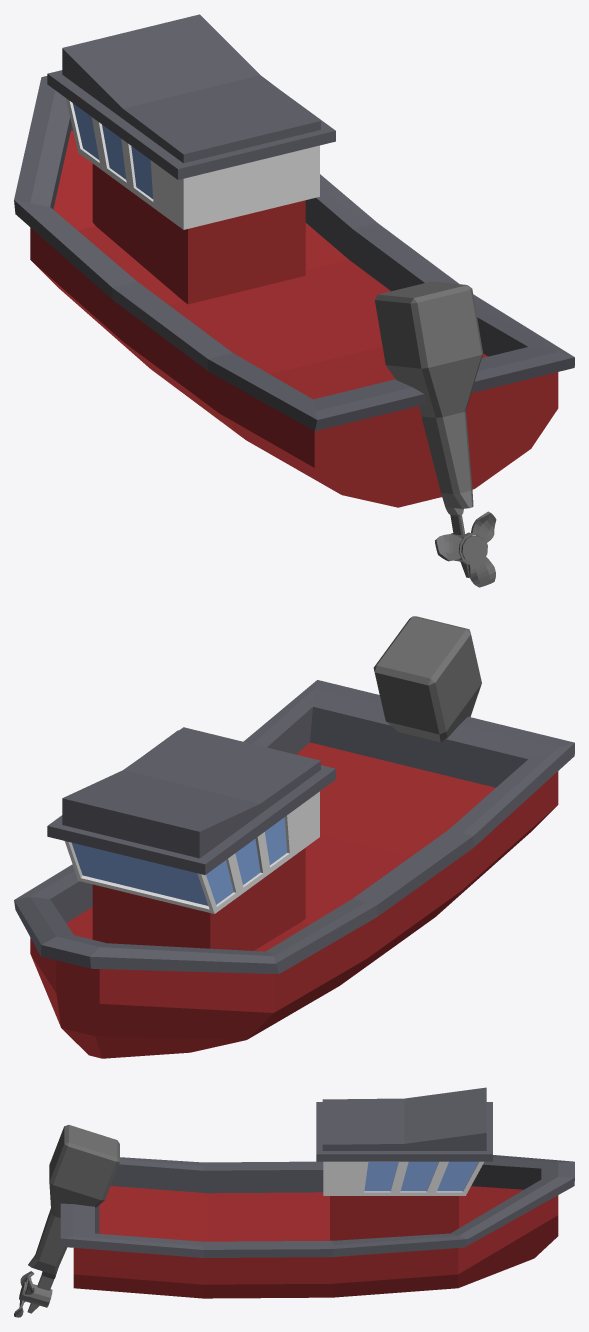
The model's file is Boat(Motor).fbx.
3 renders of one model, top to bottom at view 1: azimuth 30°, elevation 25°; view 2: azimuth 150°, elevation 25°; view 3: azimuth 270°, elevation 25°, orthographic. The views are drawn at different scales.
Visible parts, largest first — view 1: Cylinder.001; view 2: Cylinder.001; view 3: Cylinder.001.
Part boxes in pixels (<box>): Cylinder.001: <box>14,14,574,587</box>; Cylinder.001: <box>14,616,574,1058</box>; Cylinder.001: <box>14,1087,574,1317</box>.
Bounding box in the file's own units: 321 × 352 × 870.
